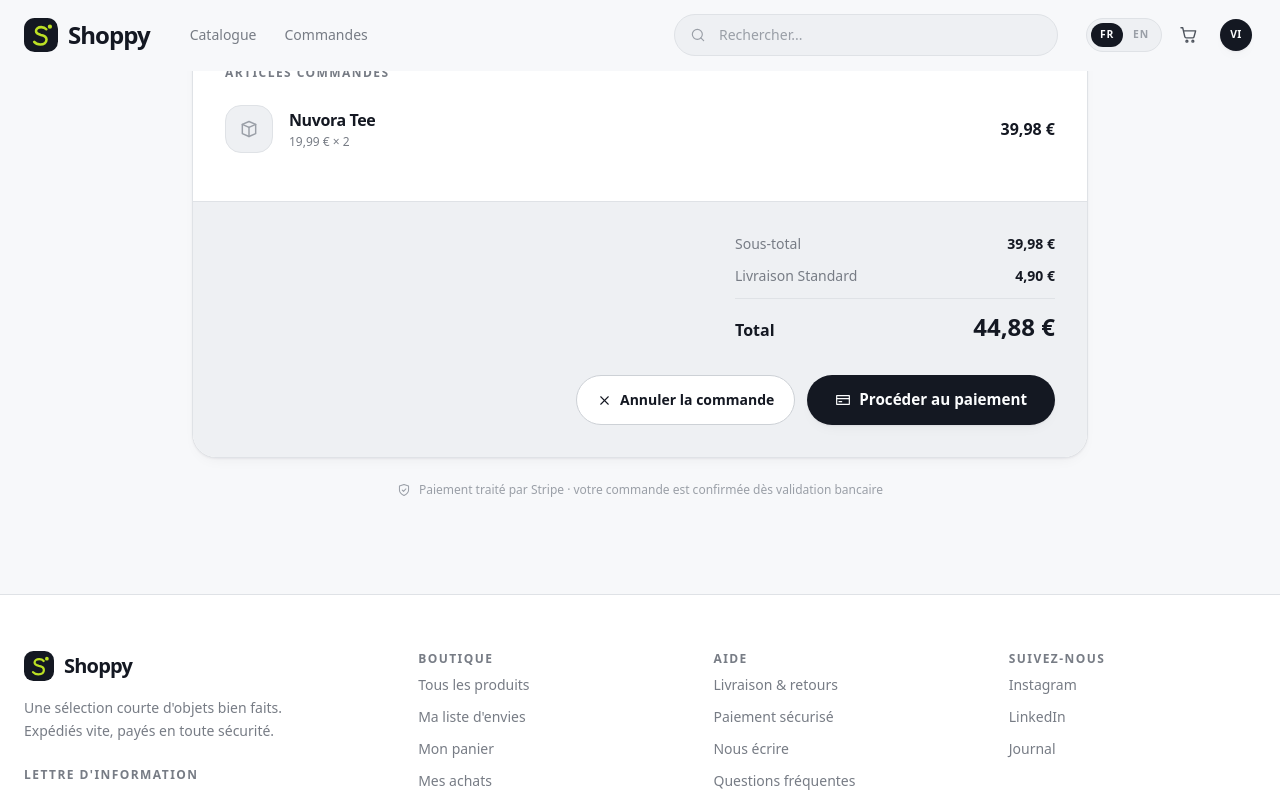
OrderDetailPage › completes a local checkout immediately instead of staying on the pending order
The width and height of the screenshot is (1280, 791).
(page scrolled)
What coordinates should you click on to do the following:
click the button "Procéder au paiement"
I would click on:
 (931, 400)
Its box is left=807, top=375, right=1055, bottom=425.
(page scrolled)
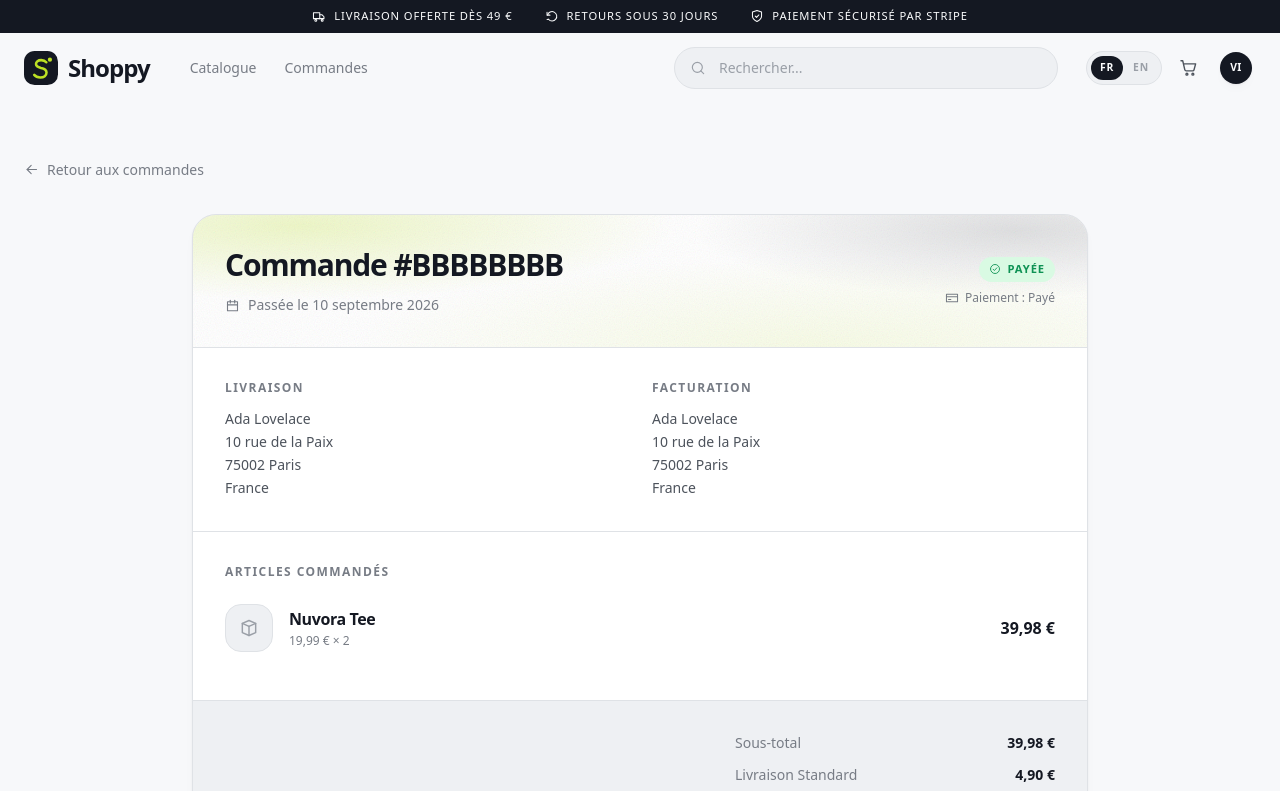
Expected: the text "Payée" is shown, left=980, top=257, right=1055, bottom=282
Expected: the button "Procéder au paiement" is gone
